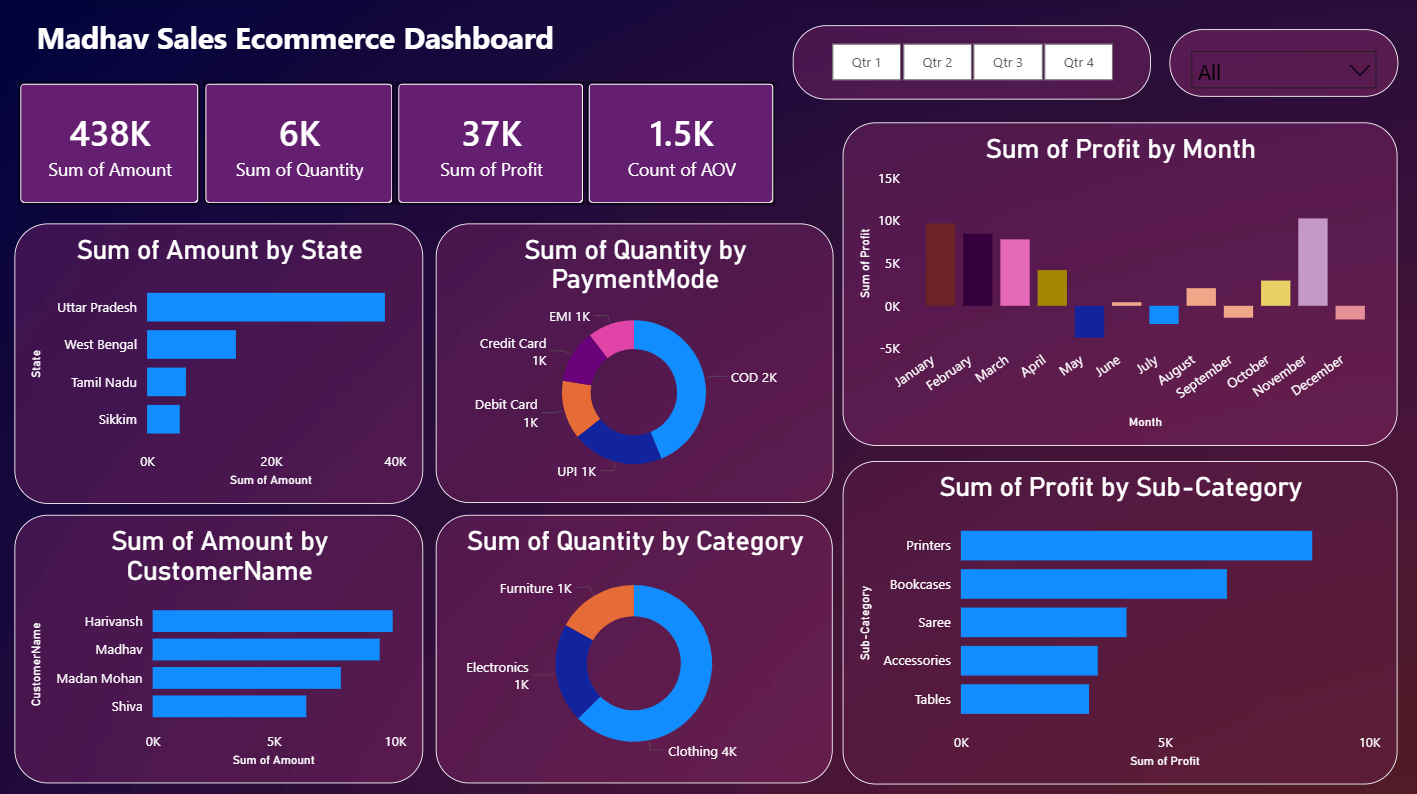

The page's visual inventory and layout, read from the dashboard file:
{"tool":"powerbi","page":{"name":"Page 1","canvas":[1280,720],"ordinal":0},"visuals":[{"type":"textbox","box":[0,10.4,532.5,58],"z":0},{"type":"columnChart","fields":{"Category":["Orders.Order Date.Variation.Date Hierarchy.Month"],"Y":["Details.Profit"]},"box":[760.6,111.7,500.5,291.6],"z":1},{"type":"barChart","fields":{"Category":["Details.Sub-Category"],"Y":["Details.Profit"]},"box":[760.6,416.4,500.5,291.6],"z":2},{"type":"slicer","fields":{"Values":["Orders.State"]},"box":[1054.6,26.8,206.7,61],"z":3},{"type":"slicer","fields":{"Values":["Orders.Order Date.Variation.Date Hierarchy.Quarter"]},"box":[715.4,23.8,322.8,66.9],"z":4},{"type":"donutChart","fields":{"Y":["Details.Quantity"],"Category":["Details.Category"]},"box":[392.7,465.6,358.5,242.4],"z":5},{"type":"donutChart","fields":{"Y":["Details.Quantity"],"Category":["Details.PaymentMode"]},"box":[392.8,202.3,358.6,252.2],"z":6},{"type":"cardVisual","fields":{"Data":["Details.Amount"]},"box":[0,58,197.8,144.3],"z":7},{"type":"cardVisual","fields":{"Data":["Details.Quantity"]},"box":[166.6,58,205.3,144.3],"z":8},{"type":"cardVisual","fields":{"Data":["Details.Profit"]},"box":[340.6,58,203.8,144.3],"z":9},{"type":"cardVisual","fields":{"Data":["Details.AOV"]},"box":[513.2,58,203.8,144.3],"z":10},{"type":"barChart","fields":{"Category":["Orders.State"],"Y":["Details.Amount"]},"box":[13.4,202.3,368.9,252.9],"z":11},{"type":"barChart","fields":{"Category":["Orders.CustomerName"],"Y":["Details.Amount"]},"box":[13.4,465.6,368.9,242.4],"z":12}]}

Visuals, with their boxes in screenshot pixels (x1, y1, x2, y2), scaled from the page's 1280x720 canvas onto the 1417x794 screenshot:
textbox: [0, 11, 589, 75]
columnChart - Orders.Order Date.Variation.Date Hierarchy.Month x Details.Profit: [842, 123, 1396, 445]
barChart - Details.Sub-Category x Details.Profit: [842, 459, 1396, 781]
slicer - Orders.State: [1167, 30, 1396, 97]
slicer - Orders.Order Date.Variation.Date Hierarchy.Quarter: [792, 26, 1149, 100]
donutChart - Details.Quantity x Details.Category: [435, 513, 832, 781]
donutChart - Details.Quantity x Details.PaymentMode: [435, 223, 832, 501]
cardVisual - Details.Amount: [0, 64, 219, 223]
cardVisual - Details.Quantity: [184, 64, 412, 223]
cardVisual - Details.Profit: [377, 64, 603, 223]
cardVisual - Details.AOV: [568, 64, 794, 223]
barChart - Orders.State x Details.Amount: [15, 223, 423, 502]
barChart - Orders.CustomerName x Details.Amount: [15, 513, 423, 781]
